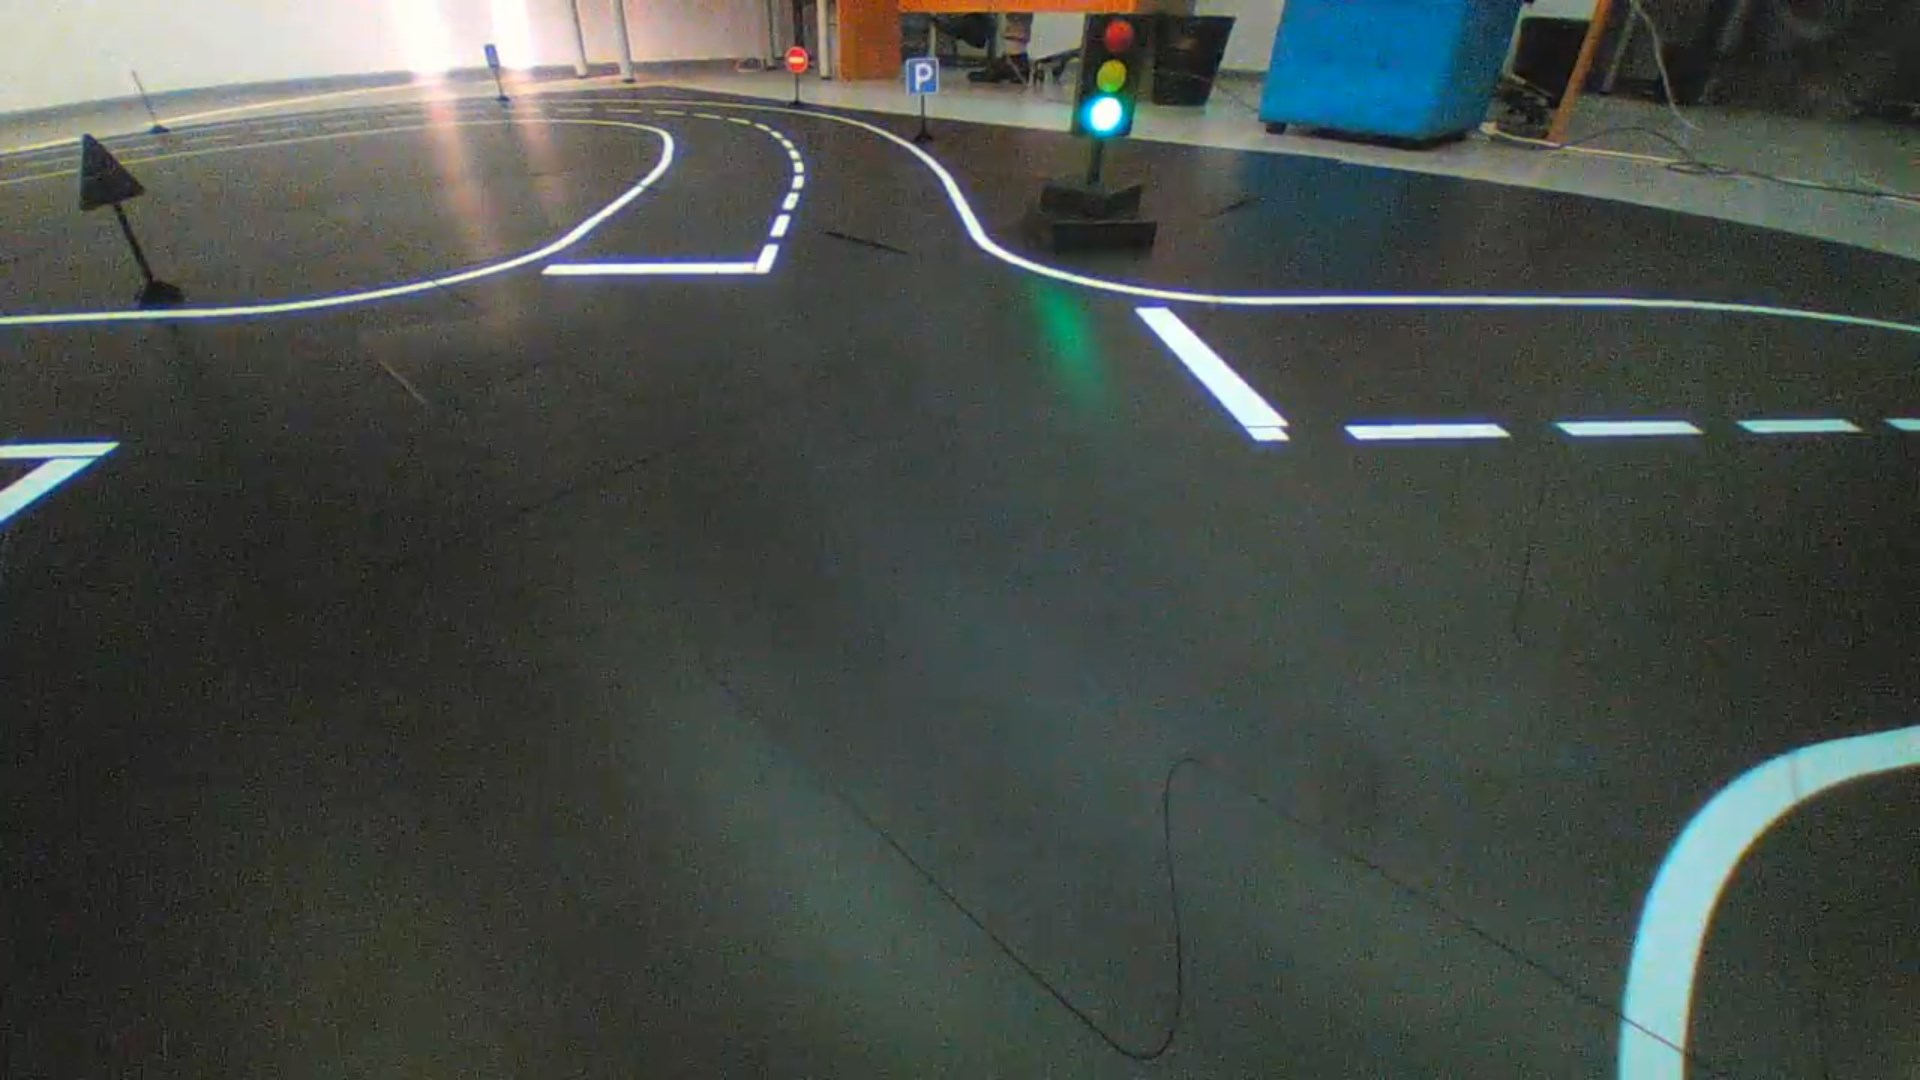trafficlight: (1069, 12, 1153, 138)
